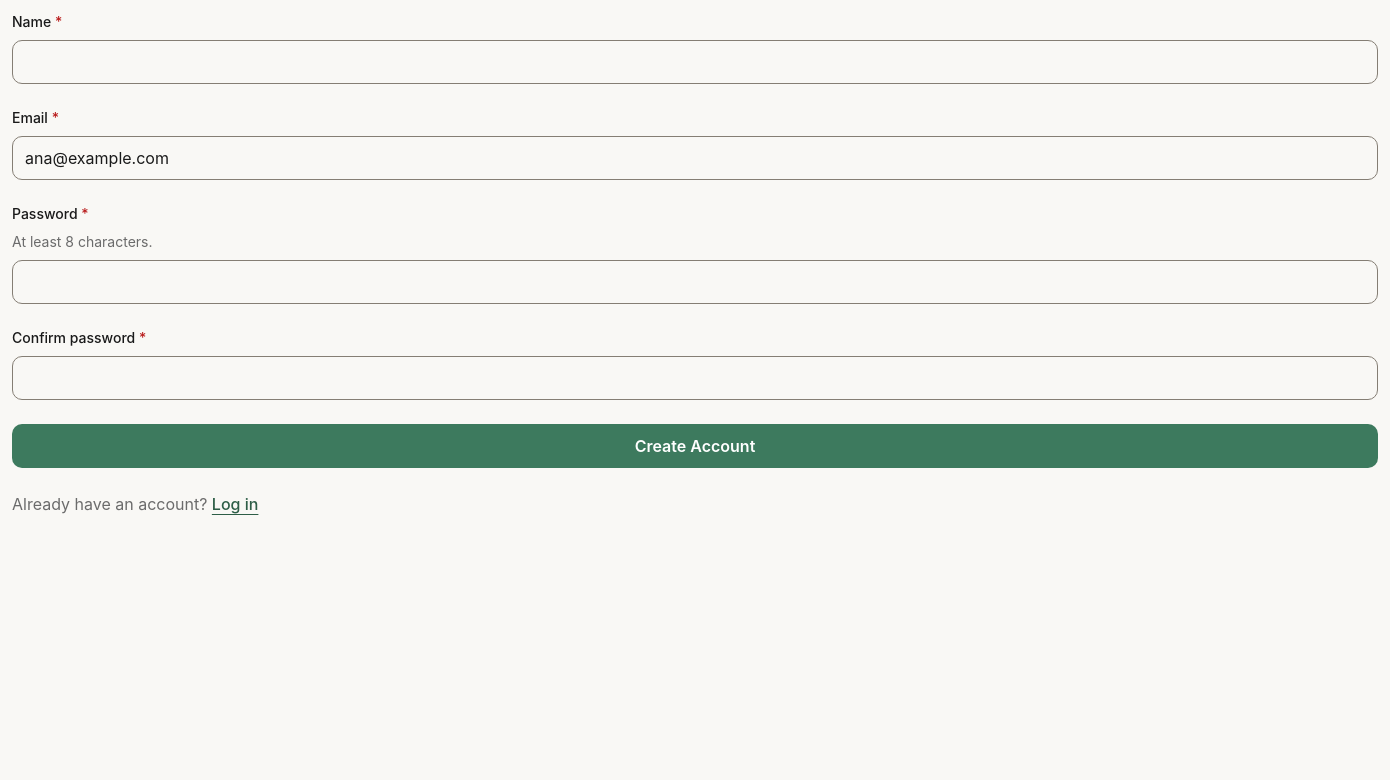
Test: SignUpForm › says the site couldn’t be reached when the action gets no answer
In the field labelled "Name *": (695, 62) [12,40,1378,84], type "Ana"
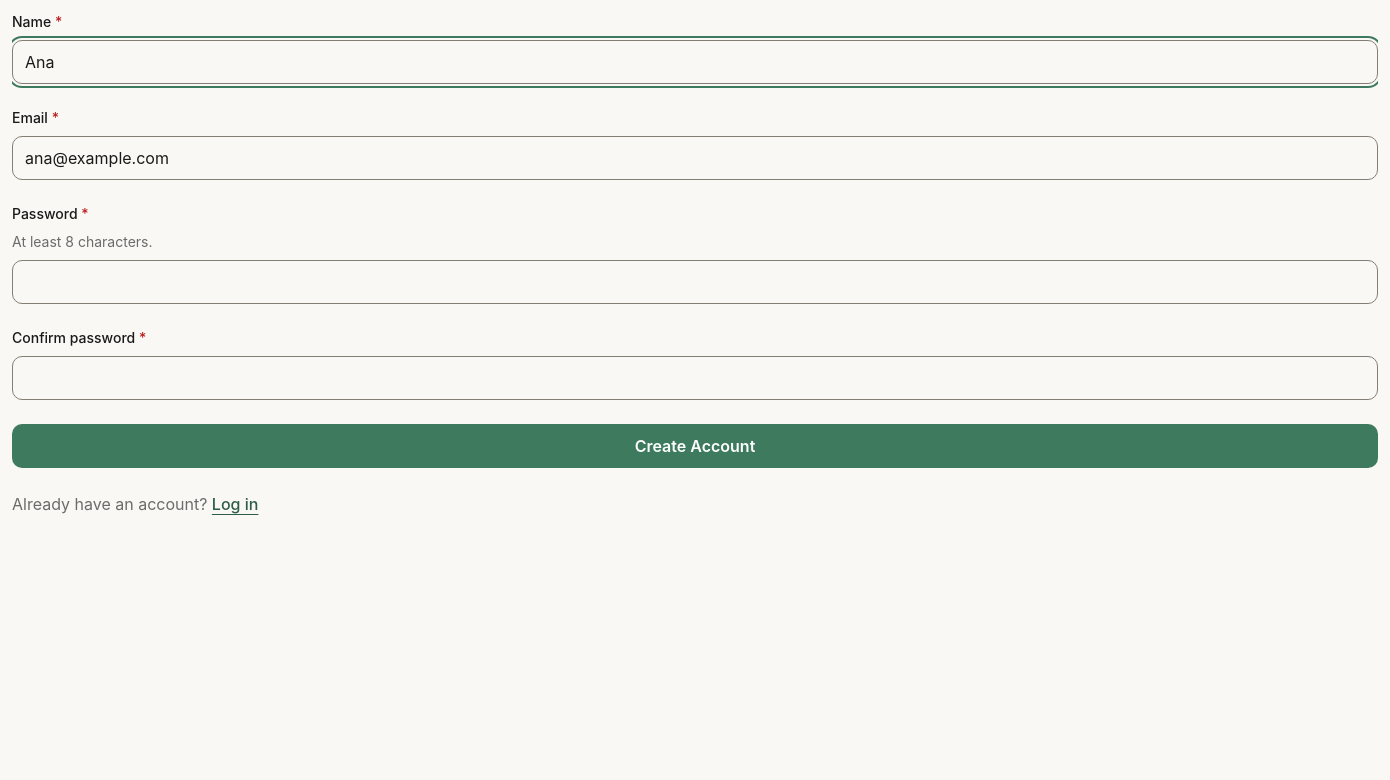
In the password field labelled "Password *": (695, 282) [12,260,1378,304], type "correct-horse"
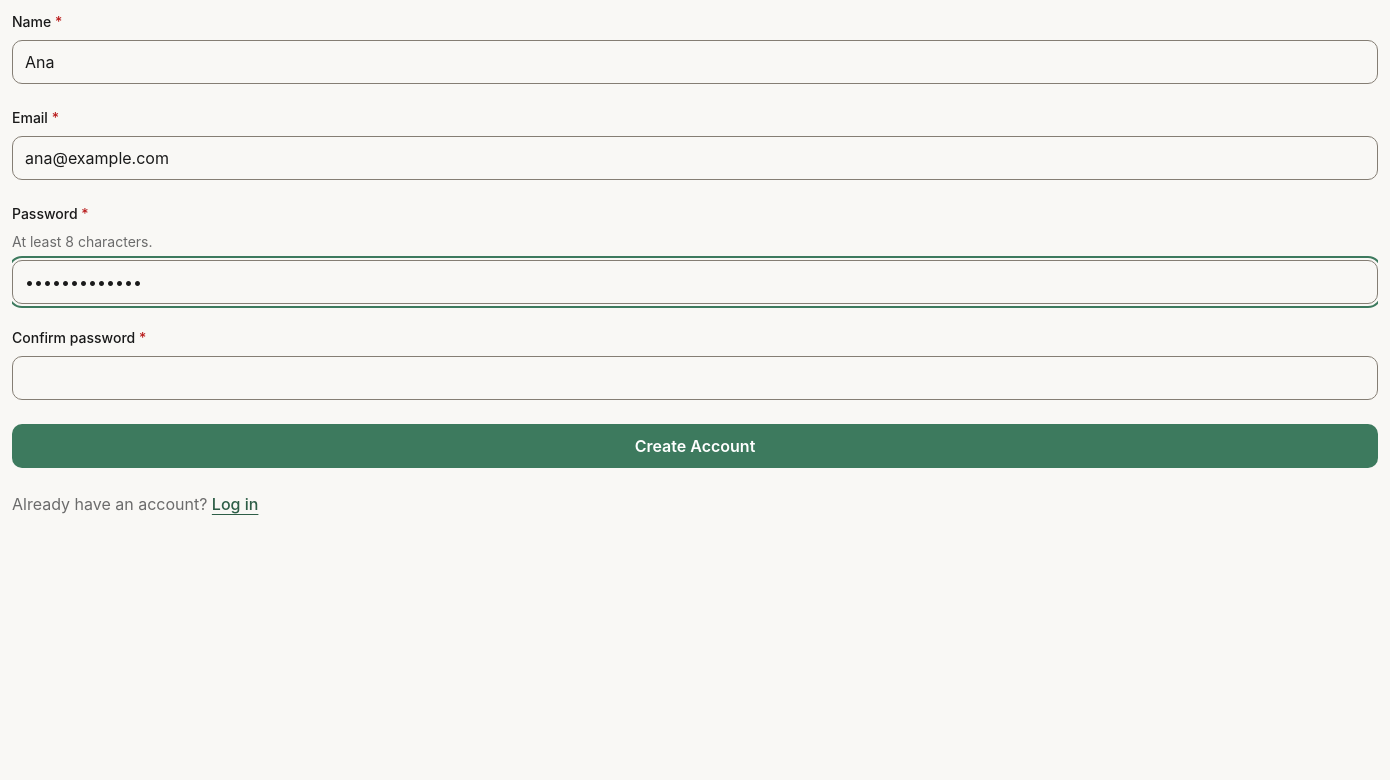
In the password field labelled "Confirm password *": (695, 378) [12,356,1378,400], type "correct-horse"
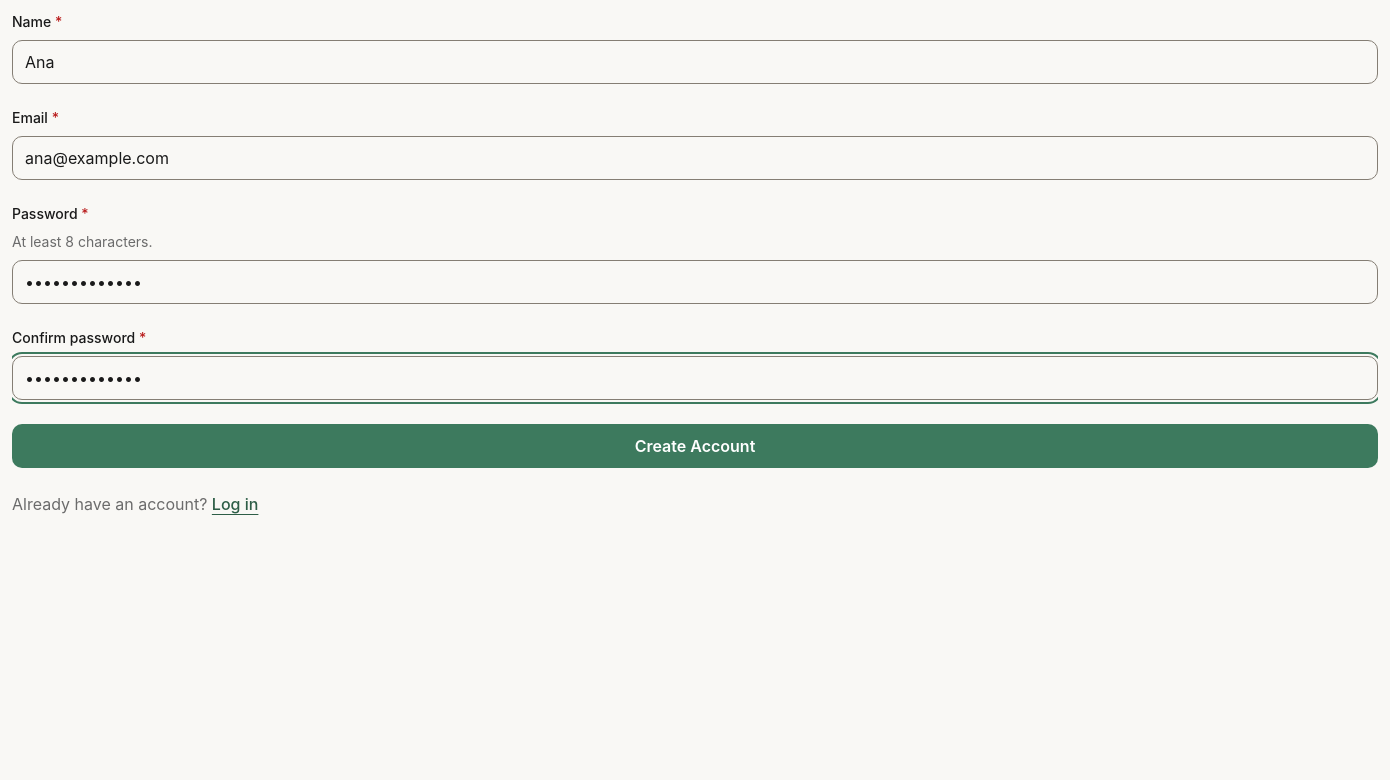
Click the button "Create Account": (695, 446) [12,424,1378,468]
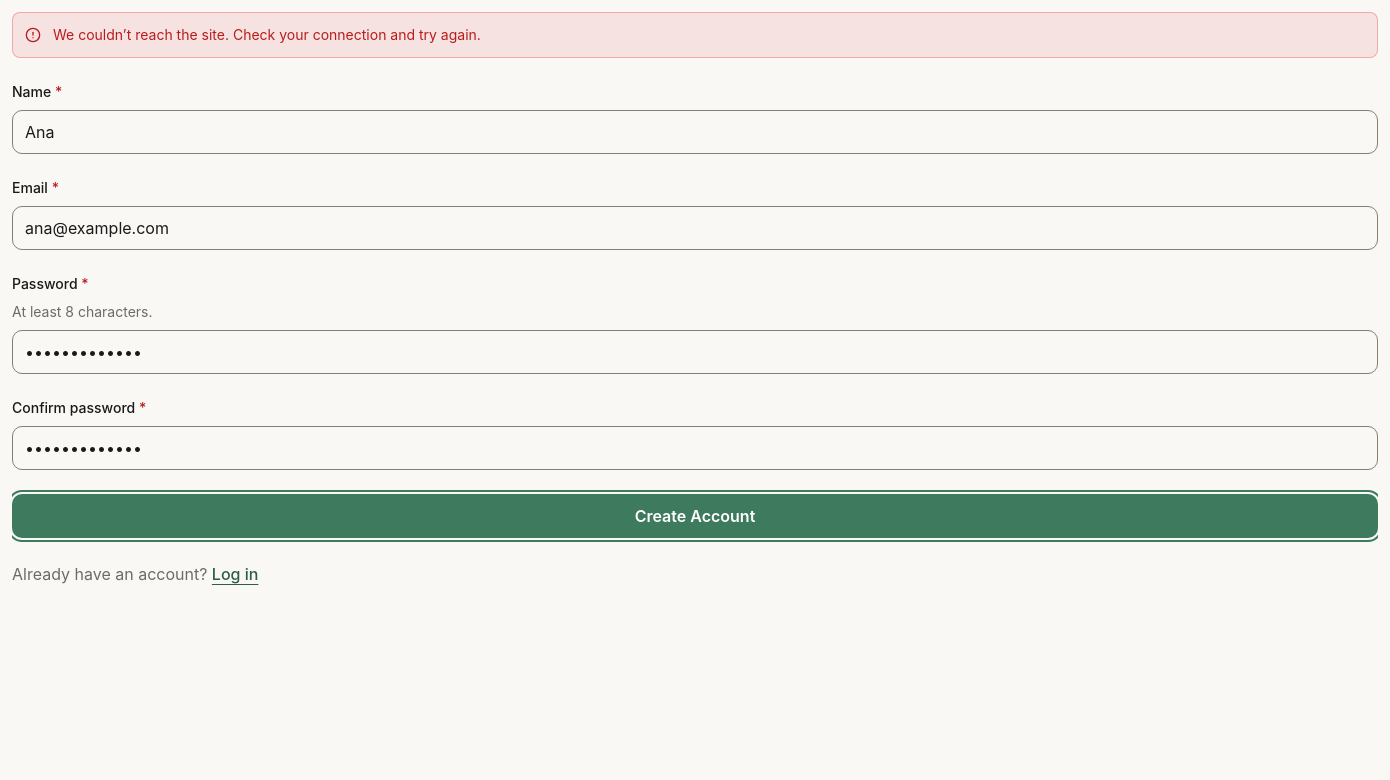
Expected: the message shows "connection", [53,26,481,43]
